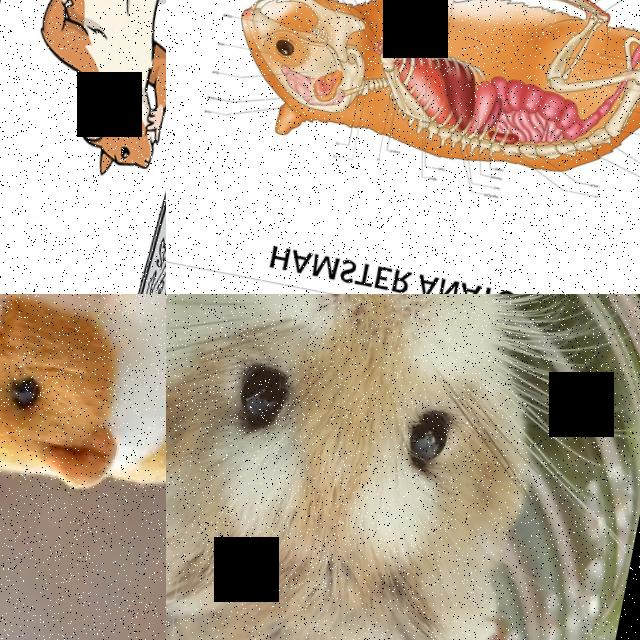hamster: (166, 294, 592, 640), (214, 0, 640, 214), (0, 294, 166, 534), (0, 0, 166, 187)
